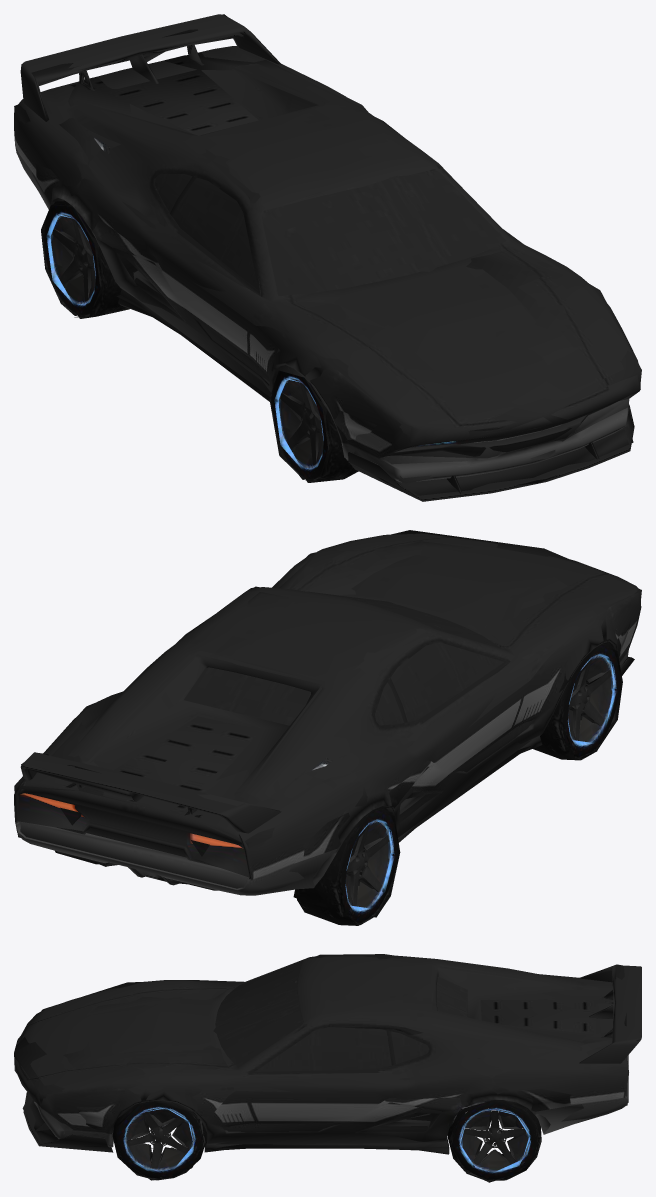
Rendered from npc_car.glb.
3 renders of one model, top to bottom at view 1: azimuth 30°, elevation 25°; view 2: azimuth 150°, elevation 25°; view 3: azimuth 270°, elevation 25°, orthographic. The views are drawn at different scales.
Parts seen in each view (by area): view 1: lod0_body, lod1_body, lod1_wheel_2, lod0_wheel_2, lod1_wheel_3, lod0_wheel_3; view 2: lod0_body, lod1_body, lod0_wheel_2, lod1_wheel_2, lod0_wheel_3, lod1_wheel_3; view 3: lod0_body, lod1_body, lod0_wheel_1, lod0_wheel_0, lod1_wheel_1, lod1_wheel_0.
Boxes of the visible parts, x1,y1,x2,y2 form: lod0_body: (14, 14, 640, 501); lod1_body: (14, 14, 641, 496); lod1_wheel_2: (41, 204, 104, 317); lod0_wheel_2: (44, 201, 129, 318); lod1_wheel_3: (269, 370, 349, 480); lod0_wheel_3: (272, 371, 358, 482); lod0_body: (14, 533, 641, 895); lod1_body: (14, 530, 641, 892); lod0_wheel_2: (297, 808, 397, 925); lod1_wheel_2: (293, 810, 400, 924); lod0_wheel_3: (533, 642, 619, 760); lod1_wheel_3: (558, 645, 622, 759); lod0_body: (15, 955, 641, 1154); lod1_body: (14, 954, 641, 1148); lod0_wheel_1: (447, 1100, 541, 1181); lod0_wheel_0: (112, 1102, 206, 1180); lod1_wheel_1: (450, 1100, 538, 1182); lod1_wheel_0: (117, 1100, 203, 1180).
Size of the model in its own units: 1.98 by 1.25 by 4.75.
Materials: 1 (1 with a texture image).
